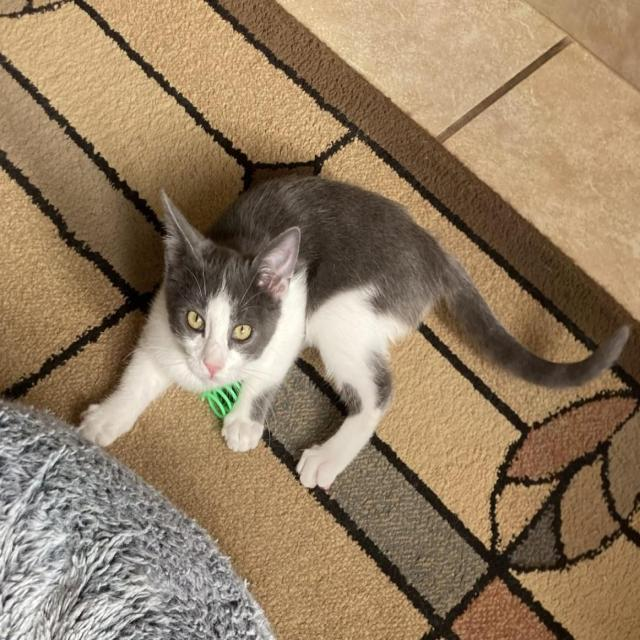american_shorthair_cat: (157, 185, 302, 392)
